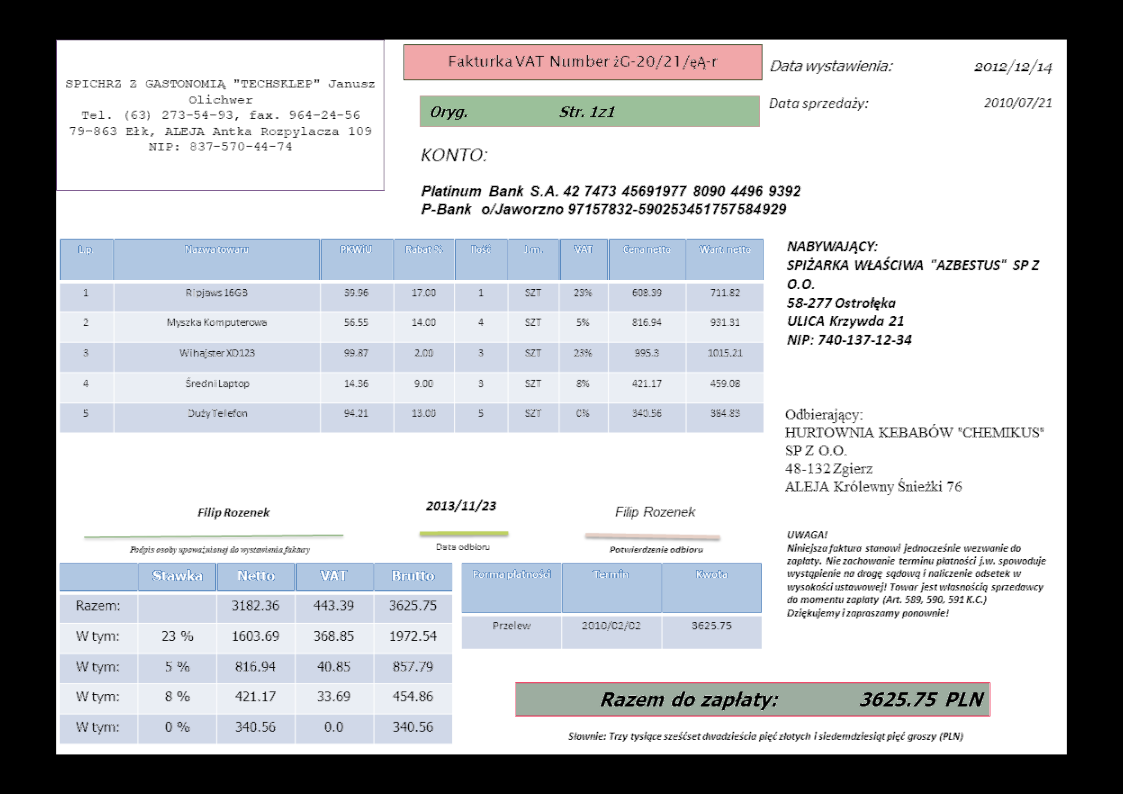Table: (58, 237, 765, 434), (57, 562, 453, 744), (460, 560, 764, 652)
TextBox: (784, 238, 1044, 349), (64, 75, 376, 156), (785, 528, 1048, 620), (782, 407, 1045, 495), (419, 181, 806, 221), (597, 686, 985, 712), (565, 729, 966, 745), (445, 51, 721, 73), (428, 102, 618, 123), (127, 543, 313, 556), (766, 57, 897, 75), (765, 96, 871, 114), (611, 502, 699, 521), (972, 58, 1054, 77), (980, 93, 1054, 112), (422, 497, 497, 515), (196, 503, 270, 521), (419, 146, 489, 165), (607, 544, 706, 556), (431, 539, 491, 554)
